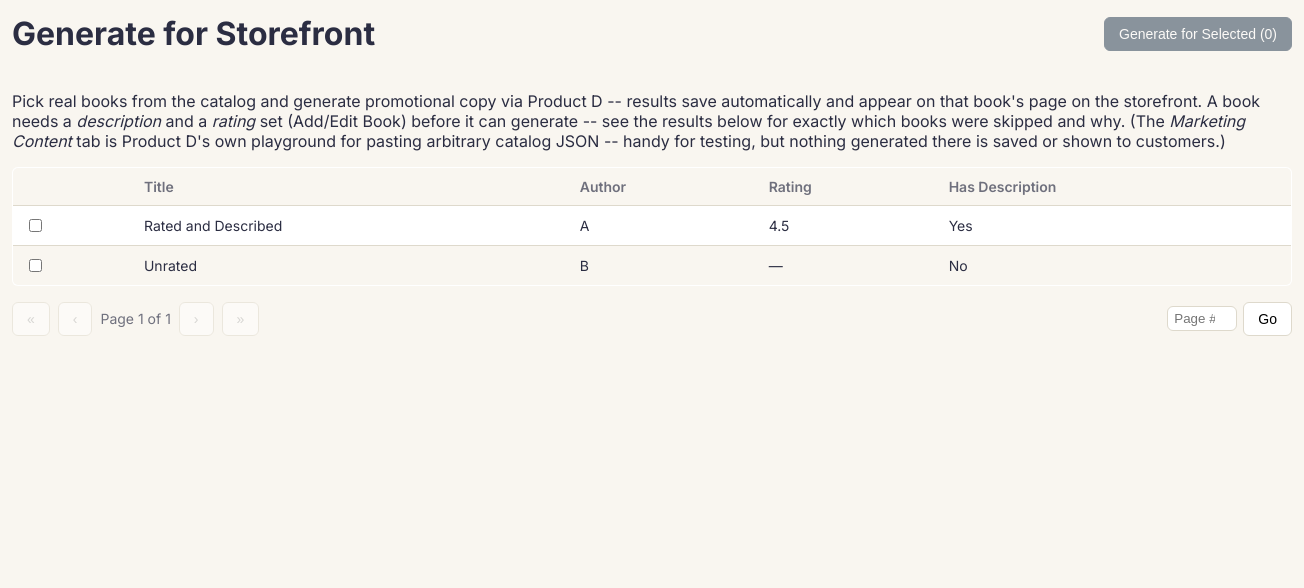
Scenario: MarketingContentPage › shows why an unrated book was rejected
The width and height of the screenshot is (1304, 588).
Check: the text "Unrated" is shown, box [132,245,568,285]
Click the checkbox named "Select Unrated". click: (36, 265)
box: [29,259,42,272]
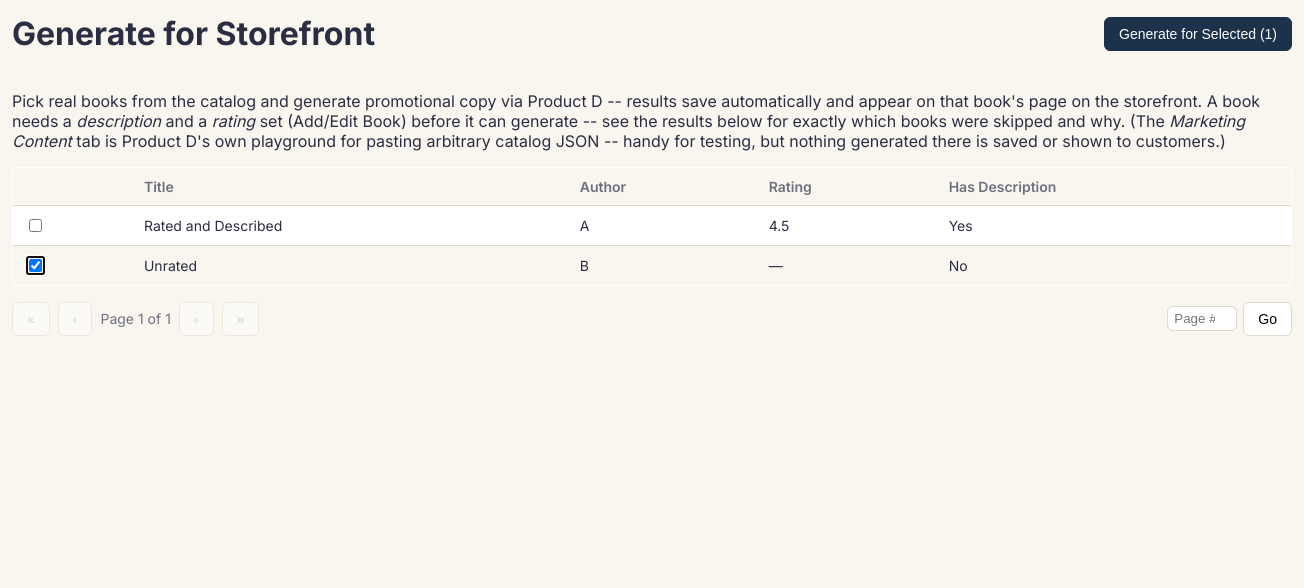
Click the button "Generate for Selected (1)". click: (1198, 34)
box: [1104,17,1292,51]
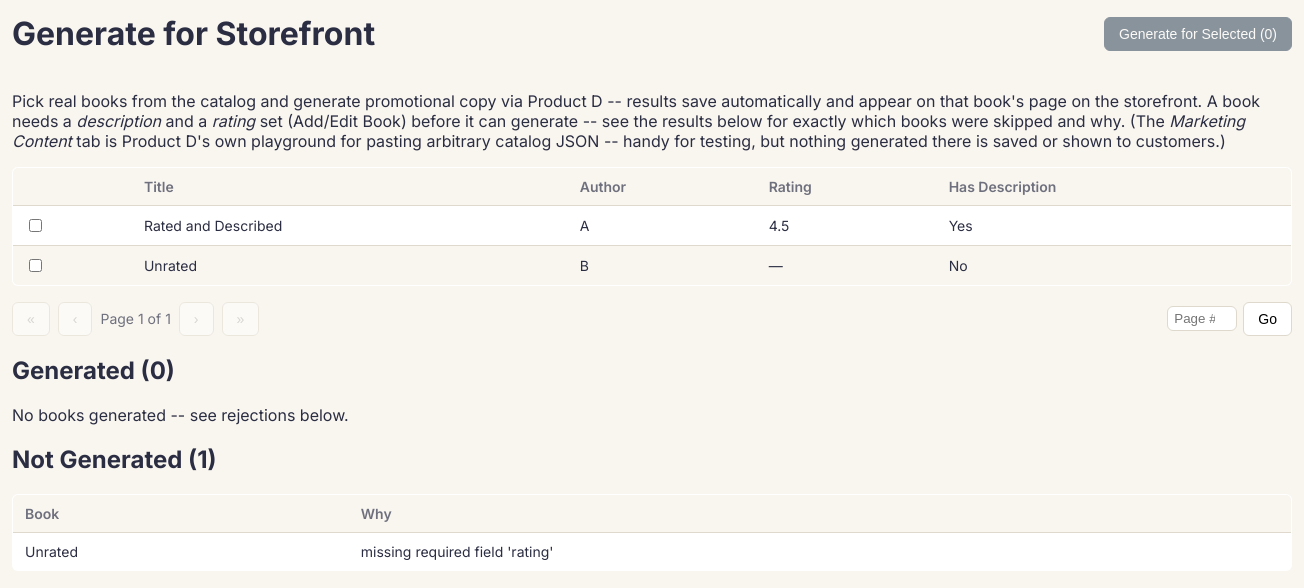
Check: the text "missing required field 'rating'" is shown, box [349,532,1292,570]
Check: the text "Unrated" is shown 2 times, box [132,245,568,285]; [12,532,349,570]
